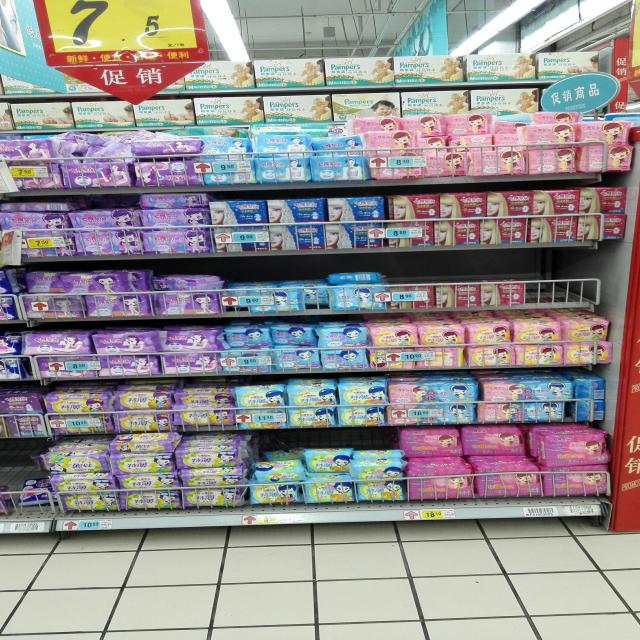void: (526, 247, 566, 310), (571, 246, 608, 312), (1, 65, 63, 102)
